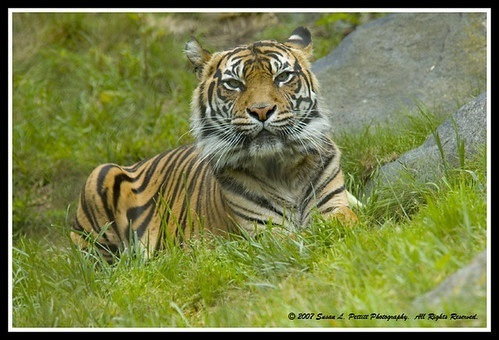tigre: (71, 27, 359, 268)
